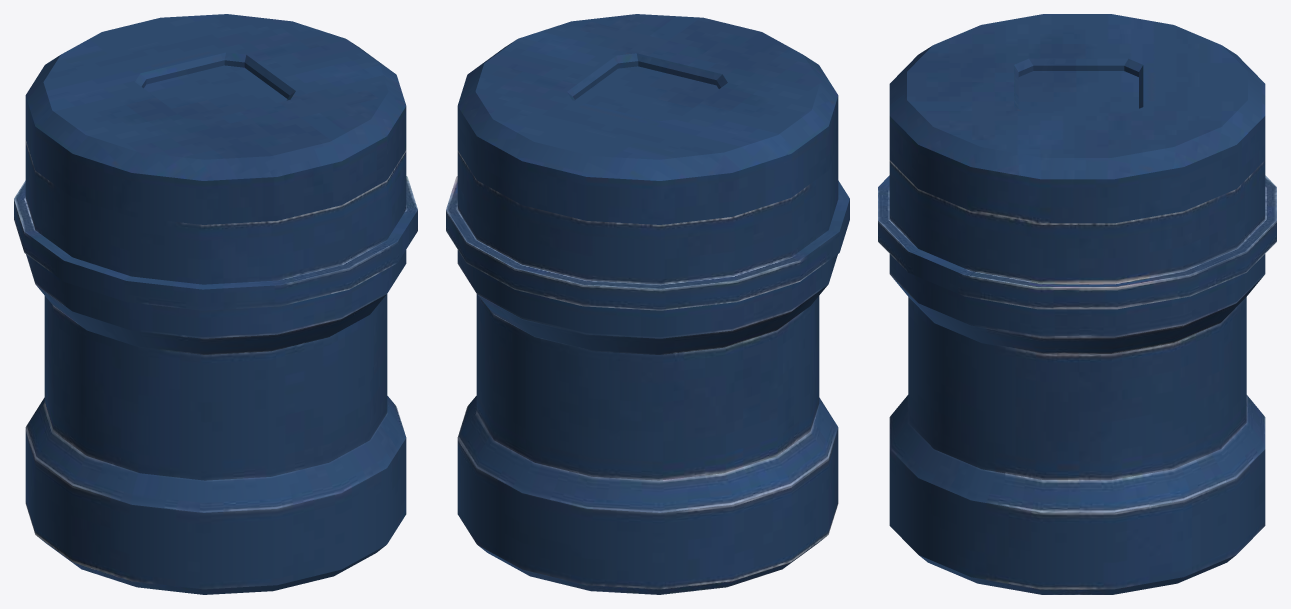
File: Cont_Barrel_static.glb
The picture shows the model from 3 angles, left to right: view 1: azimuth 30°, elevation 25°; view 2: azimuth 150°, elevation 25°; view 3: azimuth 270°, elevation 25°; orthographic projection.
Visible parts, largest first — view 1: Cont_Barrel_static; view 2: Cont_Barrel_static; view 3: Cont_Barrel_static.
Boxes of the visible parts, x1=… form: Cont_Barrel_static: x1=14, y1=14, x2=417, y2=594; Cont_Barrel_static: x1=446, y1=14, x2=849, y2=594; Cont_Barrel_static: x1=878, y1=14, x2=1276, y2=594.
Bounding box in the file's own units: 1.14 × 1.37 × 1.14.
Materials: 1 (1 with a texture image).
